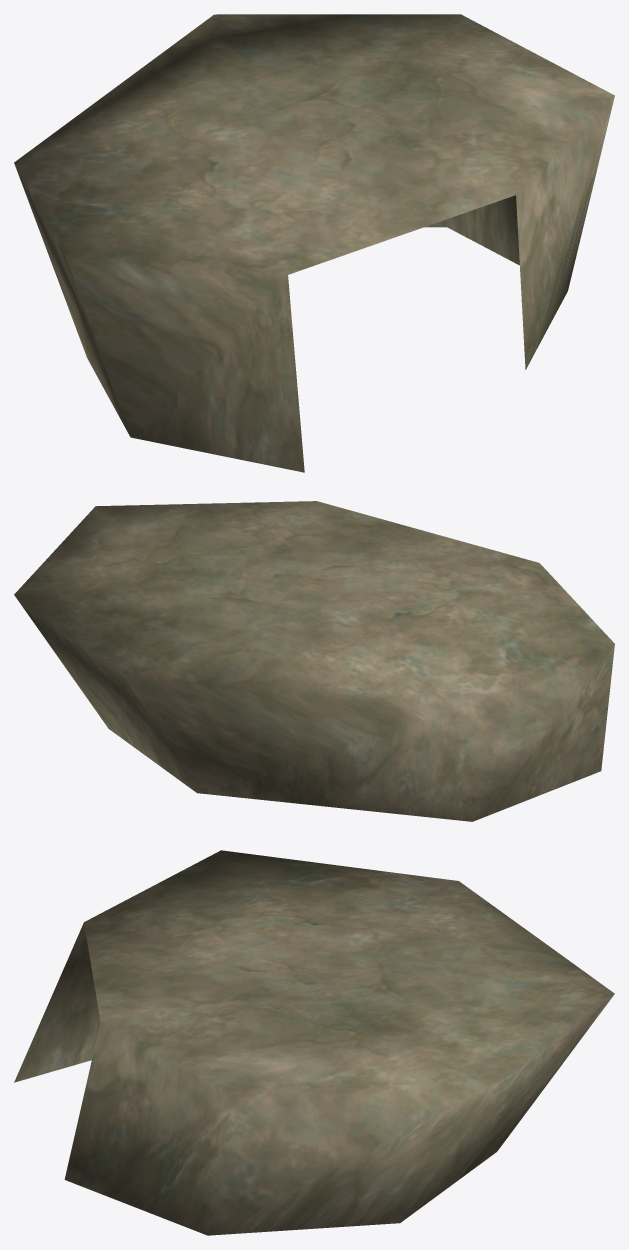
File: EKH_THRONE_PS_TH_PLATFORM_5454.fbx
The picture shows the model from 3 angles, top to bottom: view 1: azimuth 30°, elevation 25°; view 2: azimuth 150°, elevation 25°; view 3: azimuth 270°, elevation 25°; orthographic projection. The views are drawn at different scales.
Visible parts, largest first — view 1: EKH_THRONE_PS_TH_PLATFORM_5454; view 2: EKH_THRONE_PS_TH_PLATFORM_5454; view 3: EKH_THRONE_PS_TH_PLATFORM_5454.
Part boxes in pixels (x1,y1,x2,y2): EKH_THRONE_PS_TH_PLATFORM_5454: (14, 14, 614, 472); EKH_THRONE_PS_TH_PLATFORM_5454: (14, 501, 614, 821); EKH_THRONE_PS_TH_PLATFORM_5454: (14, 850, 614, 1235).
Size of the model in its own units: 33487 by 11317 by 30993.
Materials: 1 (1 with a texture image).
